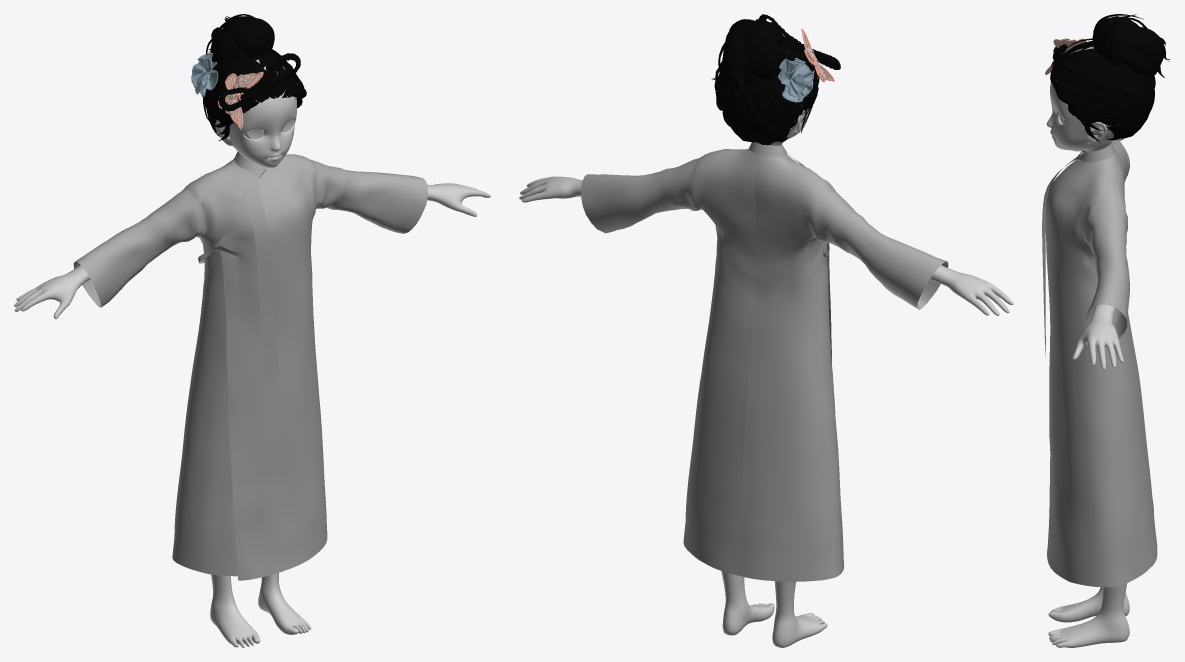
The model's file is qingdaiwawa_tutule_mx.fbx.
3 renders of one model, left to right at view 1: azimuth 30°, elevation 25°; view 2: azimuth 150°, elevation 25°; view 3: azimuth 270°, elevation 25°, orthographic. The views are drawn at different scales.
Parts seen in each view (by area): view 1: polySurface3, Doll_Body, default1, polySurface7; view 2: polySurface3, default1, Doll_Body, polySurface7; view 3: polySurface3, default1, Doll_Body, polySurface7.
Boxes of the visible parts, x1,y1,x2,y2 form: polySurface3: (73,151,427,580); Doll_Body: (14,59,490,647); default1: (203,14,306,140); polySurface7: (191,53,263,129); polySurface3: (581,142,948,581); default1: (711,14,840,145); Doll_Body: (519,52,1013,647); polySurface7: (777,28,834,102); polySurface3: (1042,139,1157,587); default1: (1050,14,1169,143); Doll_Body: (1046,46,1129,647); polySurface7: (1045,38,1086,74).
Bounding box in the file's own units: 126 × 152 × 29.02.
